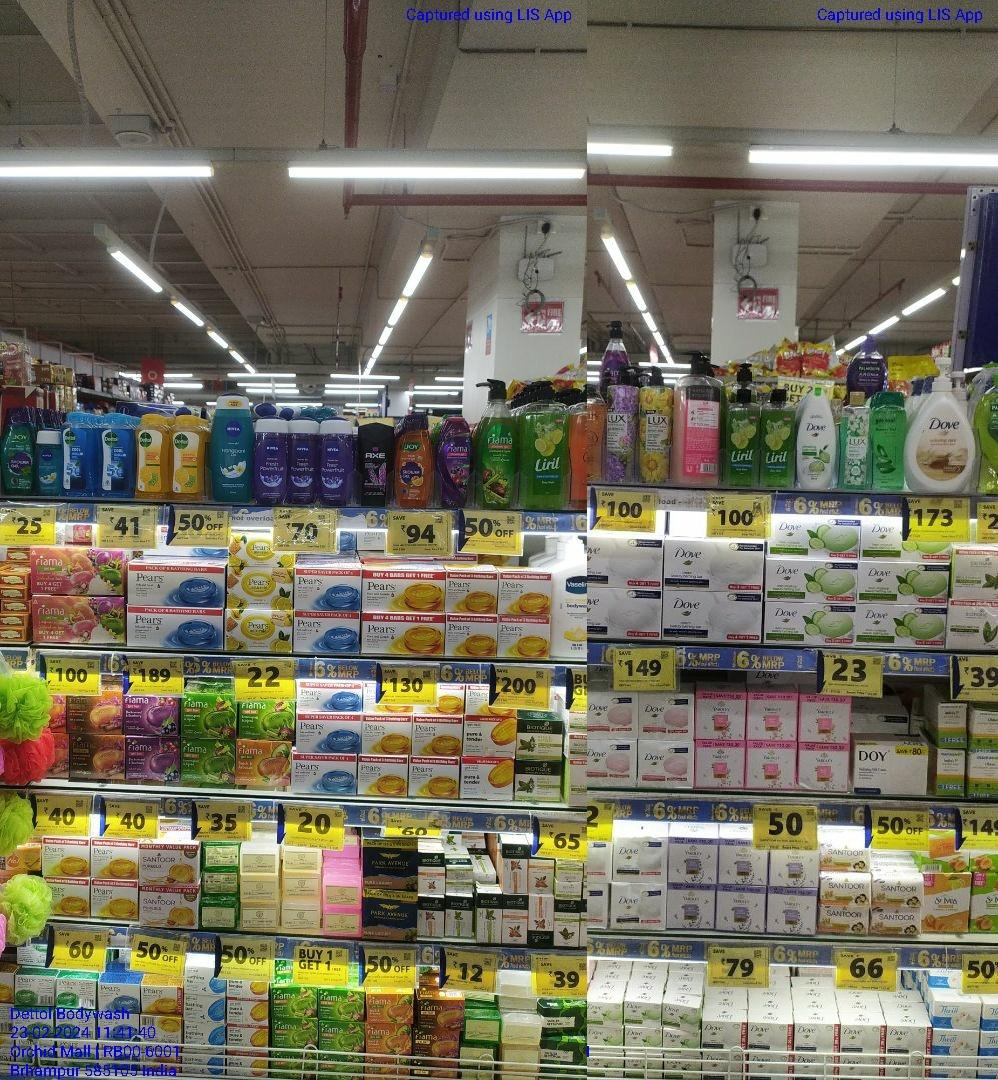Dettol_Bodywash_Cool: (97, 414, 133, 499), (65, 412, 93, 499)
Dettol_Bodywash_Refresh: (134, 414, 169, 499), (172, 416, 206, 502)
Dove_Refreshing_Body_Wash_250ML: (797, 387, 835, 489)
Joy_Shower_Gel_Mandarin_and_Lemongrass_250ML: (393, 415, 432, 508), (5, 410, 34, 499)
Liril_Lime_and_Tea_Tree_Oil_Body_Wash_250ML: (761, 389, 796, 490), (726, 391, 760, 489)
Nivea_Shower_Gel_Frangipani_and_Oil_250ML: (209, 395, 252, 503), (34, 430, 65, 497)
Nivea_Shower_Gel_Fresh_Powerfruit_250ML: (319, 419, 353, 504), (254, 420, 287, 503), (289, 419, 317, 505)
